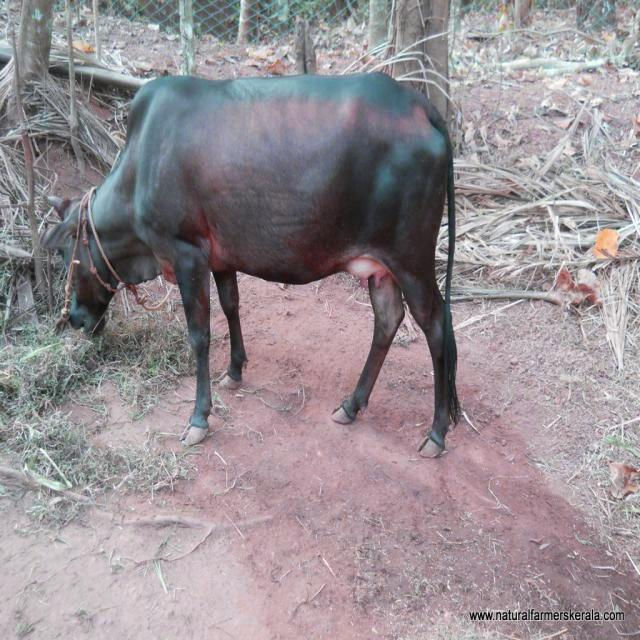cow: (44, 74, 459, 457)
